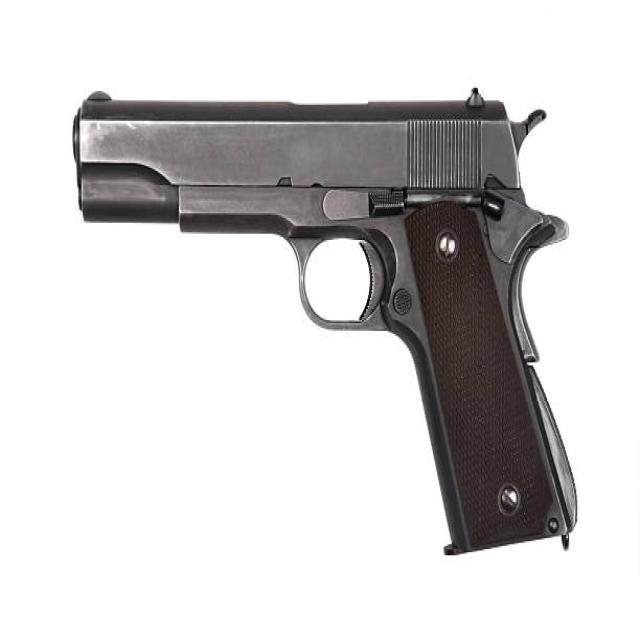pistol: (70, 78, 589, 567)
